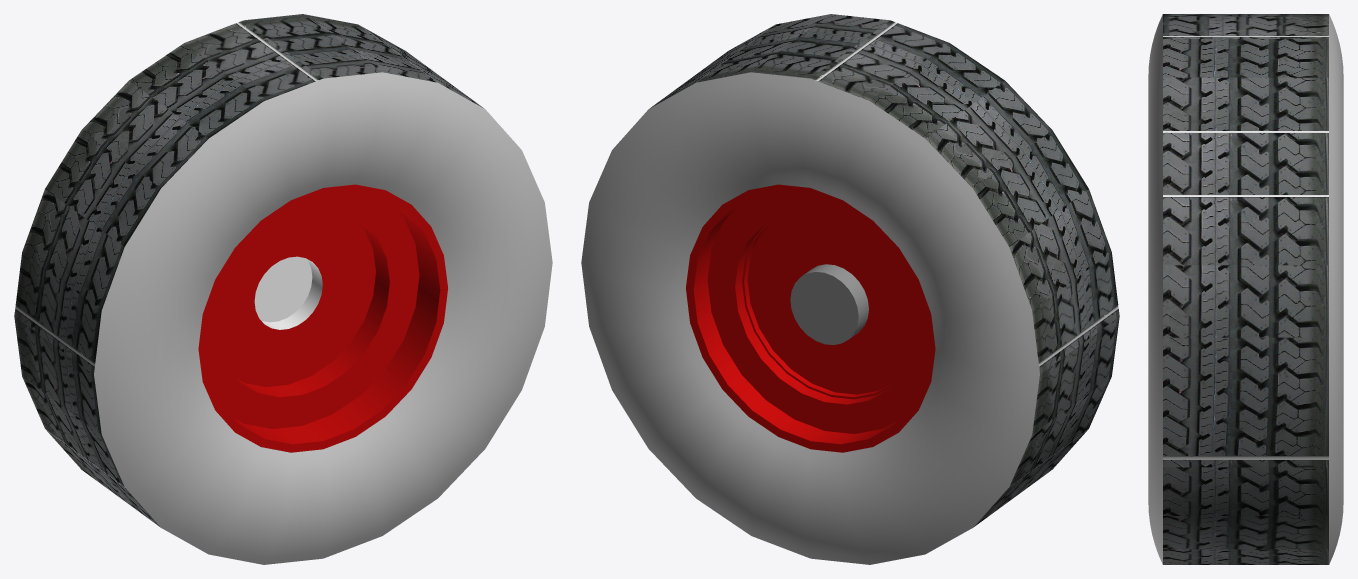
The model's file is trailer_wheel.dae.
3 renders of one model, left to right at view 1: azimuth 30°, elevation 25°; view 2: azimuth 150°, elevation 25°; view 3: azimuth 270°, elevation 25°, orthographic. The views are drawn at different scales.
Visible parts, largest first — view 1: Wheel_Assembly (×7); view 2: Wheel_Assembly (×7); view 3: Wheel_Assembly (×3).
Part boxes in pixels (x1,y1,x2,y2): Wheel_Assembly (×7): [14, 14, 552, 564]; Wheel_Assembly (×7): [581, 14, 1119, 564]; Wheel_Assembly (×3): [1148, 14, 1343, 564].
Size of the model in its own units: 18.54 by 6.54 by 18.54.
